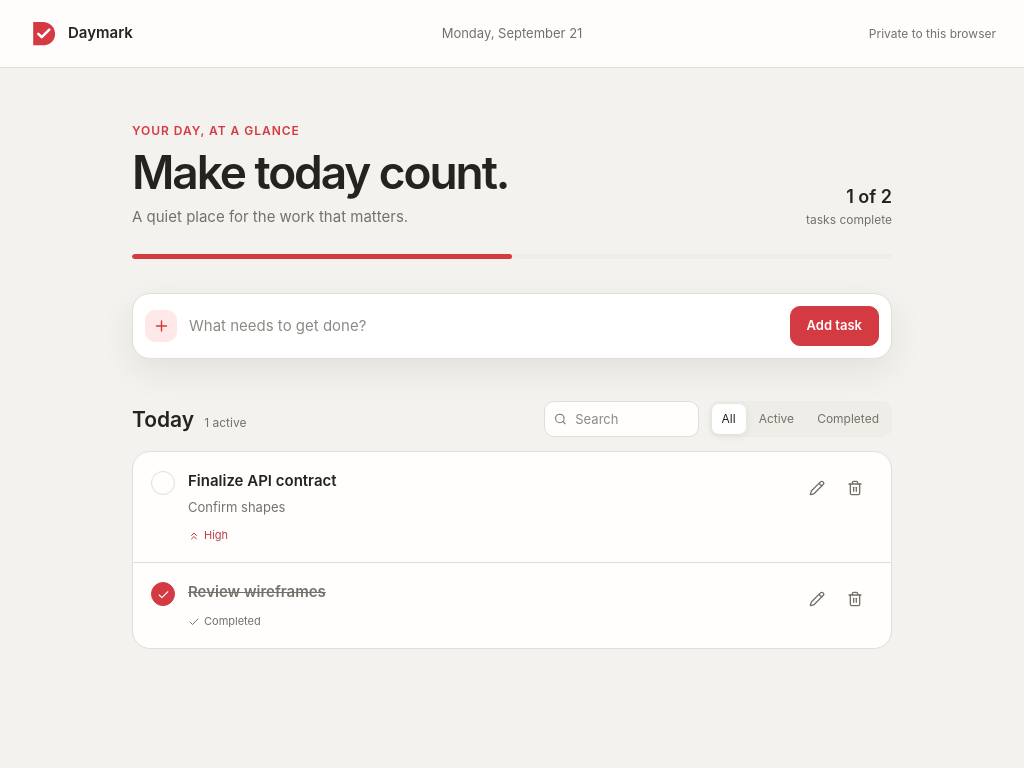
Test: App › edits a task and saves changed fields
Expected: the heading "Finalize API contract" is shown, [188,471,337,490]
Click the button named "Edit Finalize API contract": (817, 488) [799,470,835,506]
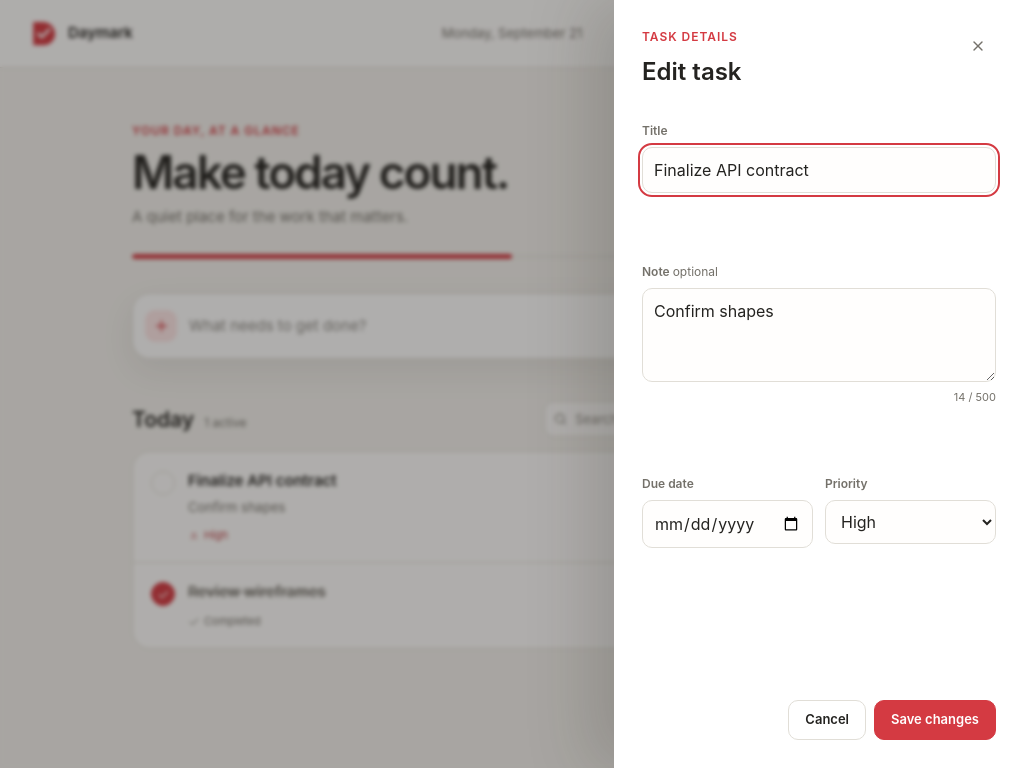
Replace the text in the field labelled "Title" with "Final API contract": (819, 170) [642,147,996,193]
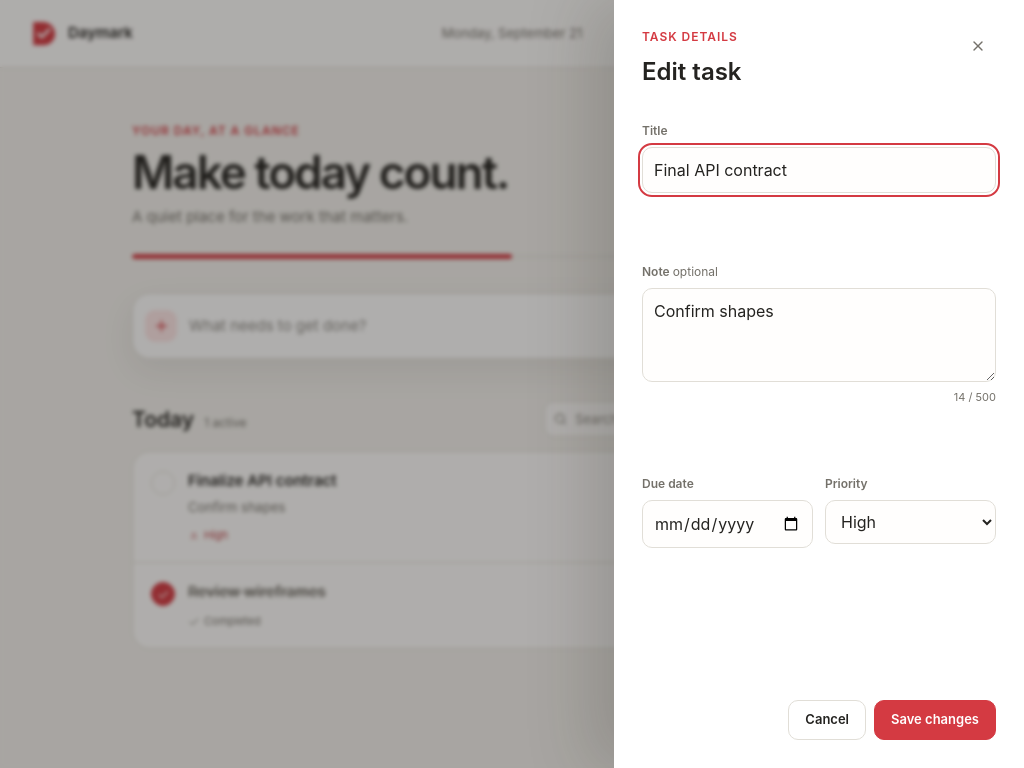
Select "Medium" in the dropdown labelled "Priority": (910, 522) [825,500,996,544]
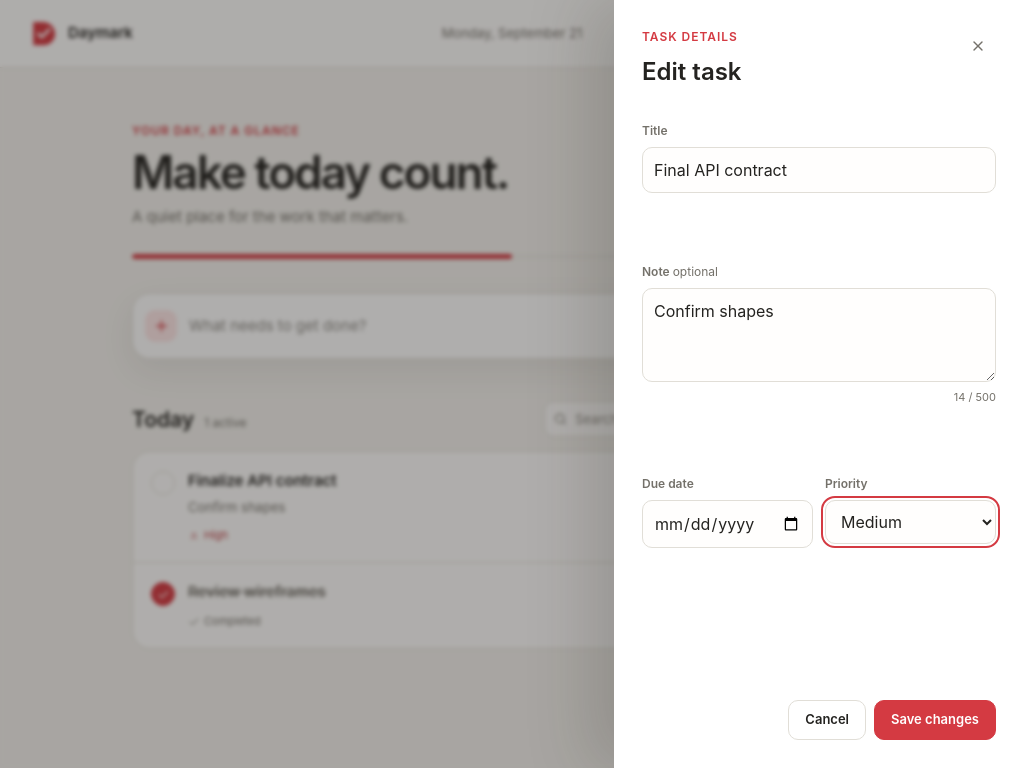
Click the button "Save changes": (935, 720) [874,700,996,740]
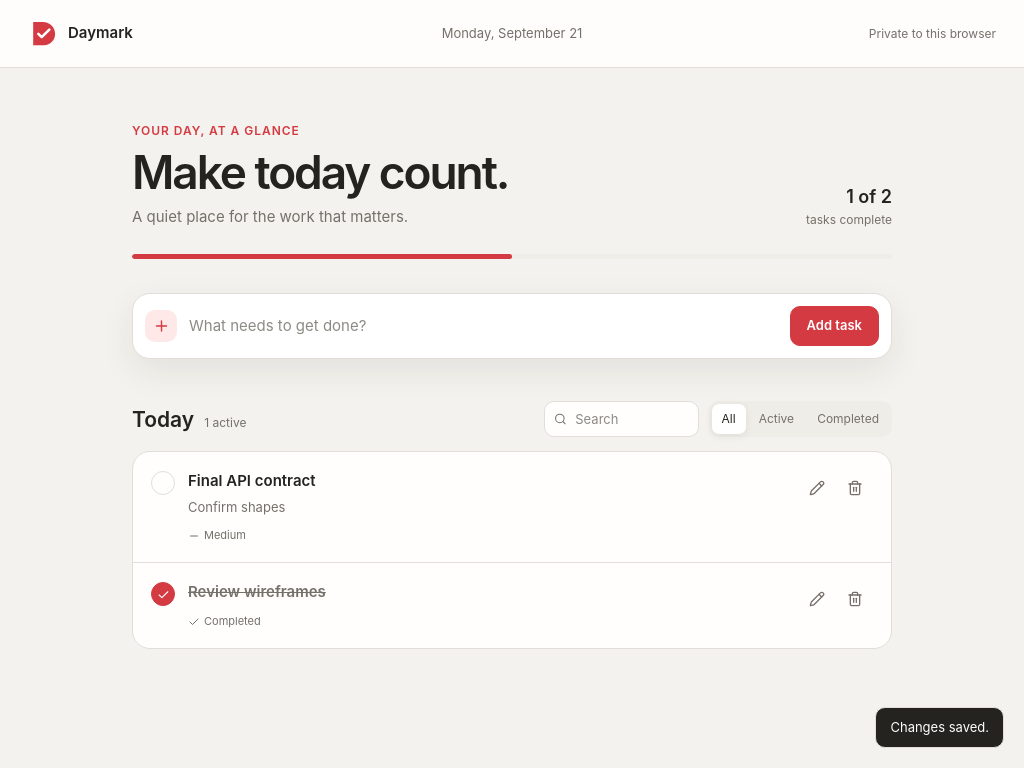
Result: the heading "Final API contract" is shown at [188,471,316,490]
